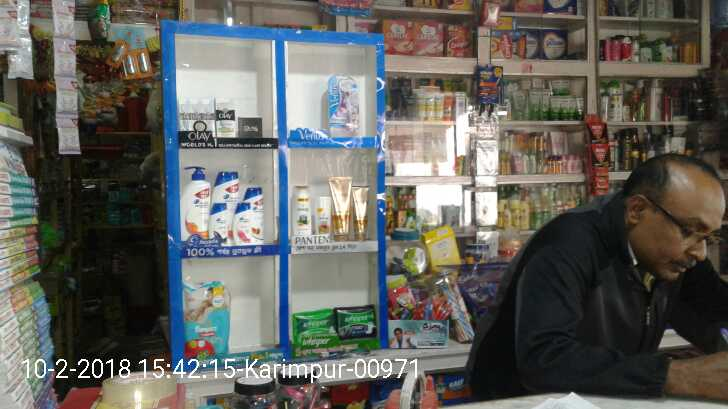venus: (328, 74, 360, 137)
